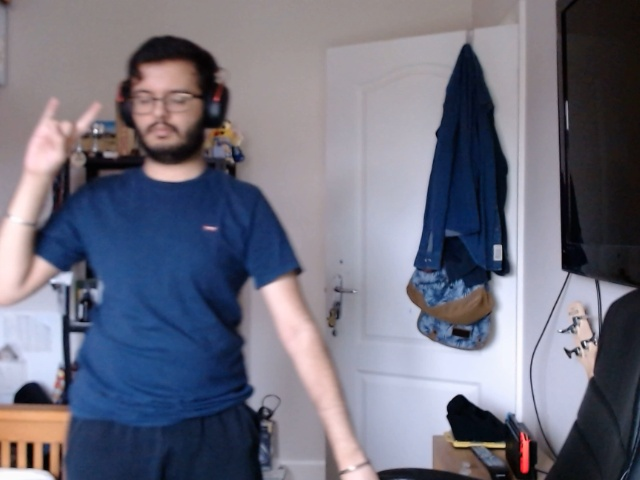Rock on: (18, 85, 113, 199)
